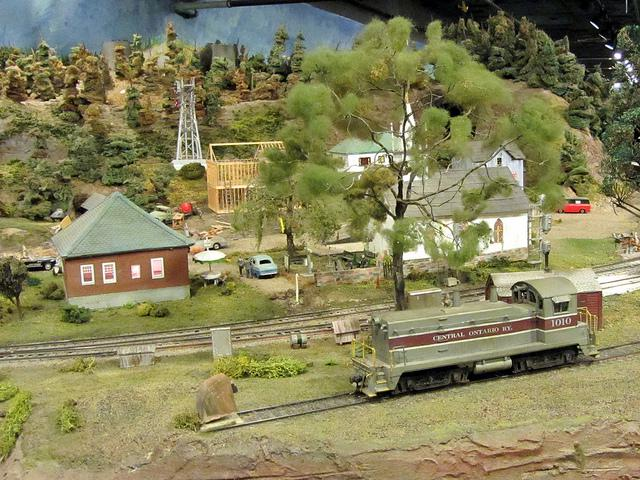Train: (352, 267, 606, 393)
